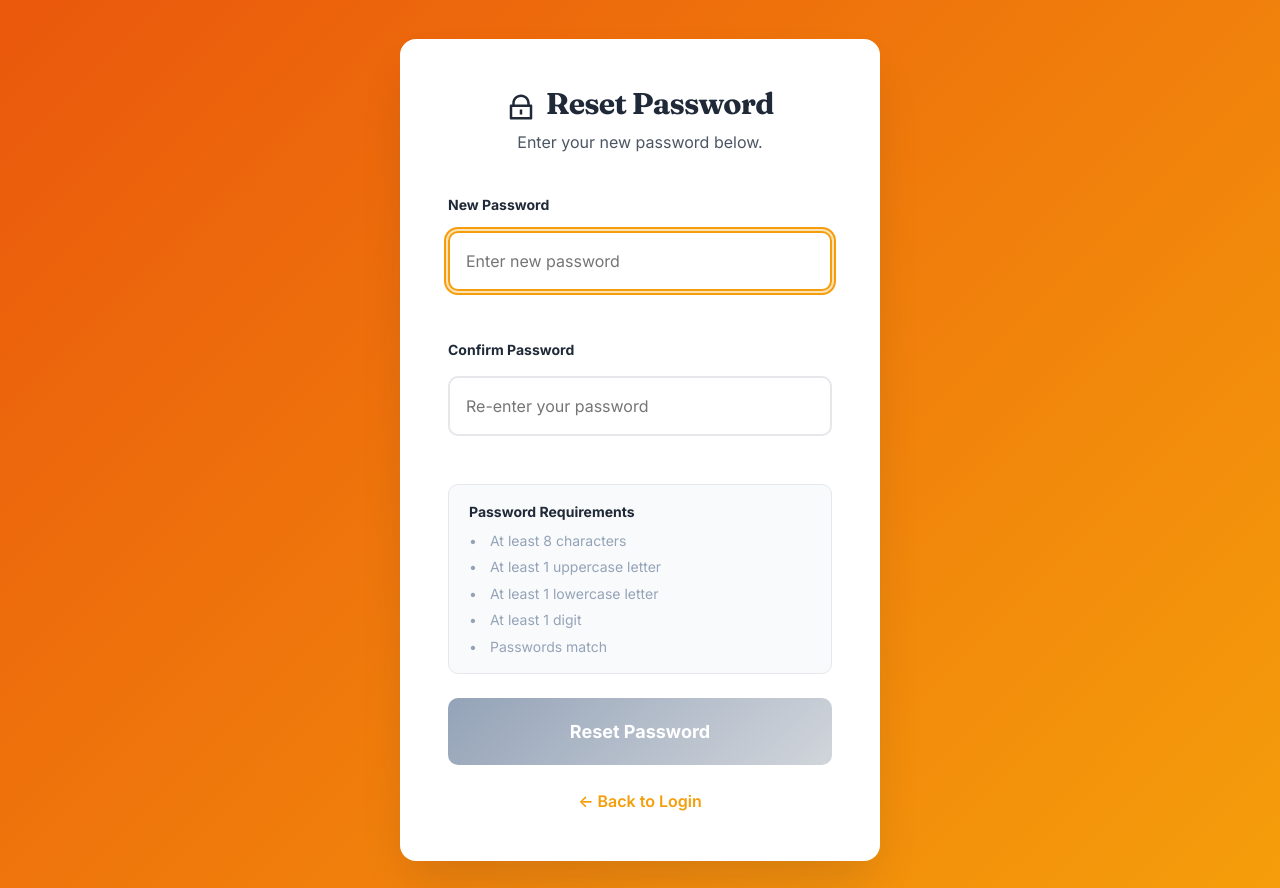
ResetPassword › shows error on failed reset
The width and height of the screenshot is (1280, 888).
Type "NewPass123" into the password field with test id "reset-password-password".
click(640, 261); type("NewPass123")  # box [448,231,832,291]
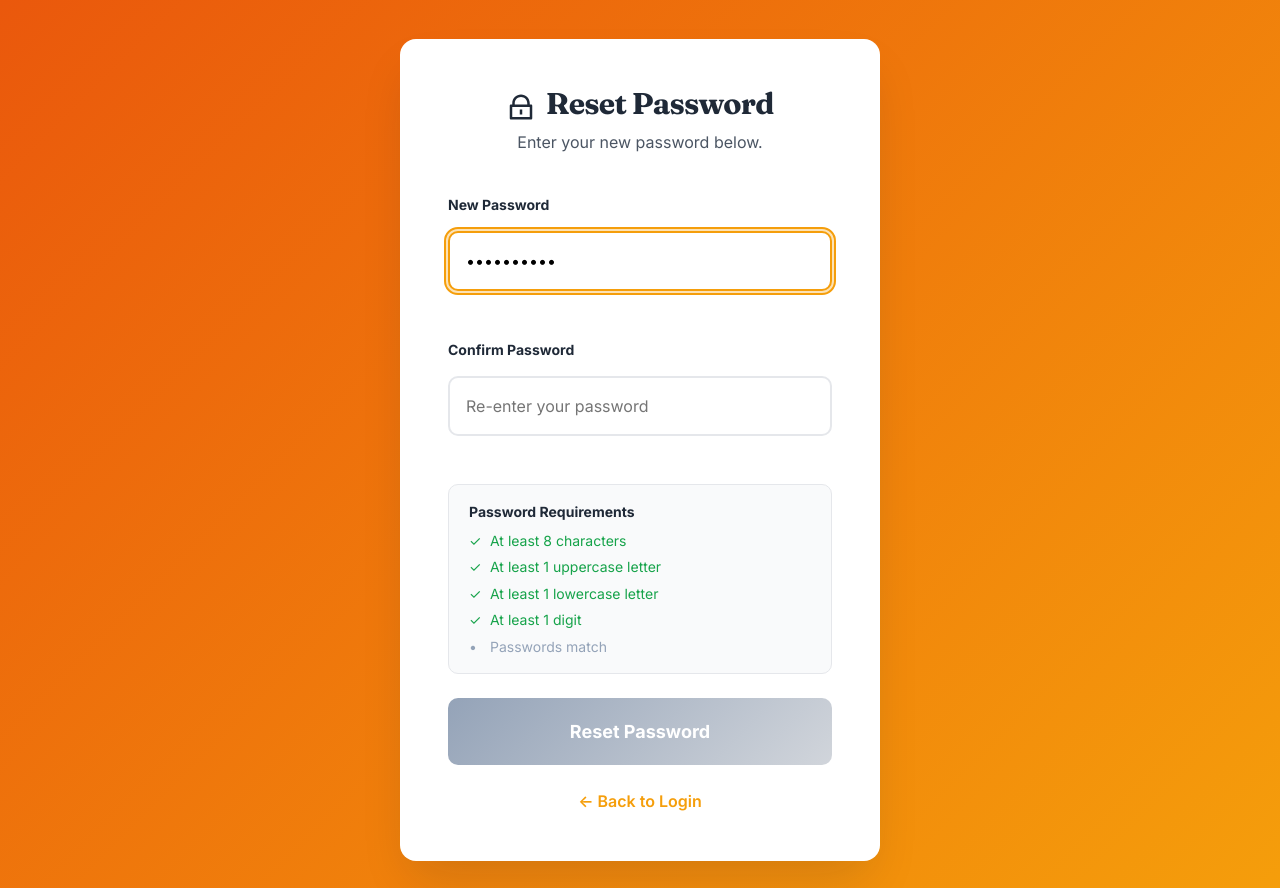
Type "NewPass123" into the password field with test id "reset-password-confirm".
click(640, 406); type("NewPass123")  # box [448,376,832,436]
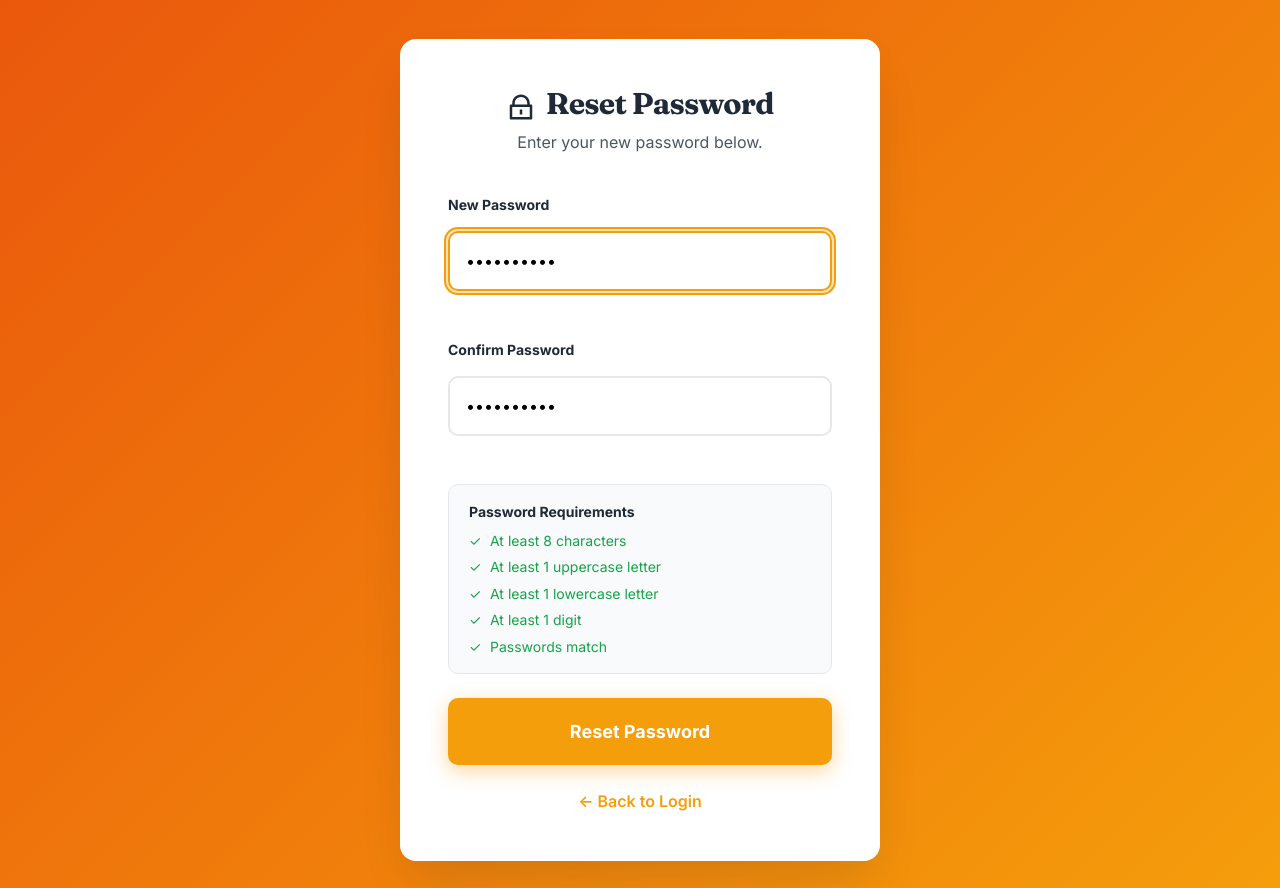
Click the button with test id "reset-password-submit".
click(640, 732)  # box [448,698,832,765]
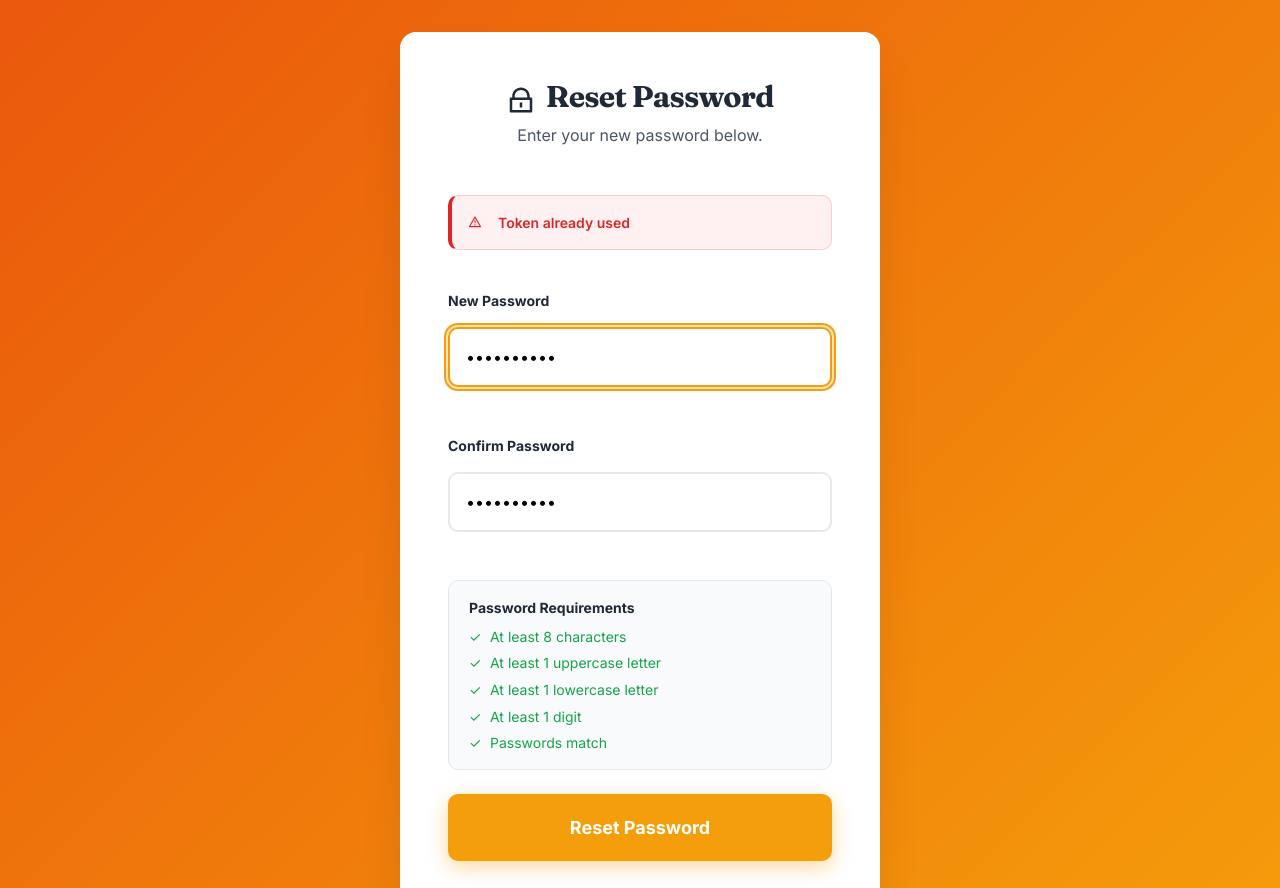
Check: the element with test id "reset-password-error" reads "Token already used", box [498,214,630,231]
